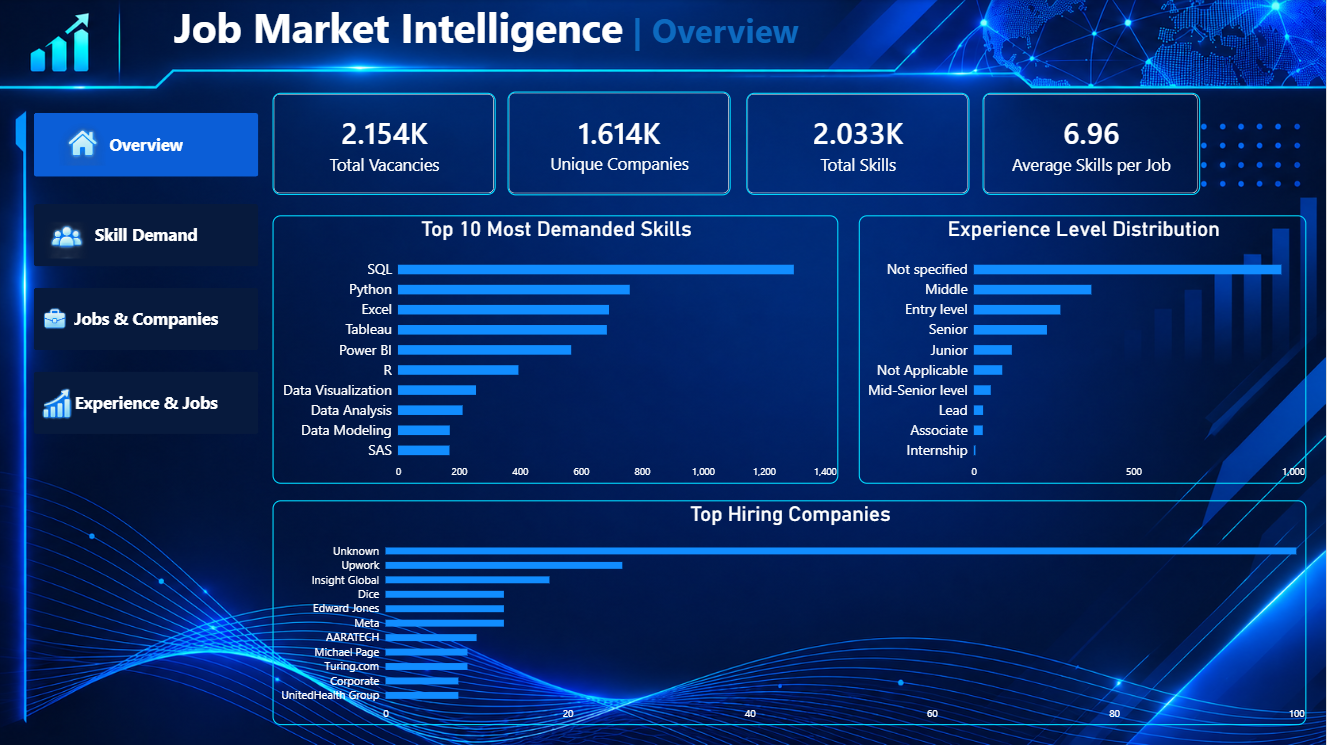

What the dashboard file says about the page in this screenshot:
{"tool":"powerbi","page":{"name":"Overview","canvas":[1920,1080],"ordinal":0},"visuals":[{"type":"textbox","box":[251.1,0,1099.1,105],"z":0},{"type":"cardVisual","fields":{"Data":["CountNonNull(vacancies_cleaned.id)"]},"box":[395.2,135.8,323.2,148.2],"z":1000},{"type":"cardVisual","fields":{"Data":["Count(vacancies_cleaned.company)"]},"box":[734.8,133.8,323.2,150.3],"z":2000},{"type":"cardVisual","fields":{"Data":["CountNonNull(skills_cleaned.id)"]},"box":[1080.6,135.8,323.2,148.2],"z":3000},{"type":"cardVisual","fields":{"Data":["Calculation.Average Skills per Job"]},"box":[1422.3,135.8,314.9,148.2],"z":4000},{"type":"clusteredBarChart","title":"Top 10 Most Demanded Skills","fields":{"Category":["skills_cleaned.name"],"Y":["CountNonNull(vacancy_skills_cleaned.vacancy_id)"]},"box":[395.2,312.9,819.2,389],"z":5000},{"type":"clusteredBarChart","title":"Experience Level Distribution","fields":{"Category":["vacancies_cleaned.experience_level"],"Y":["CountNonNull(vacancies_cleaned.id)"]},"box":[1243.2,312.9,648.4,389],"z":6000},{"type":"clusteredBarChart","title":"Top Hiring Companies","fields":{"Category":["vacancies_cleaned.company"],"Y":["CountNonNull(vacancies_cleaned.id)"]},"box":[394.5,725.7,1496.6,325.7],"z":7000},{"type":"actionButton","box":[49.4,164.7,325.2,92.6],"z":9000},{"type":"image","box":[63.8,168.8,113.2,84.4],"z":10000},{"type":"actionButton","box":[49.4,296.4,325.2,90.6],"z":11000},{"type":"image","box":[41.2,284,111.1,129.7],"z":12000},{"type":"actionButton","box":[49.4,417.8,325.2,90.6],"z":13000},{"type":"actionButton","box":[49.4,539.3,325.2,90.6],"z":14000},{"type":"image","box":[49.4,440.5,57.6,45.3],"z":15000},{"type":"image","box":[41.2,551.6,80.3,63.8],"z":15500}]}

Visuals, with their boxes in screenshot pixels (x1, y1, x2, y2), scaled from the page's 1920x1080 canvas onto the 1327x745 screenshot:
textbox: bbox=(174, 0, 933, 72)
cardVisual - CountNonNull(vacancies_cleaned.id): bbox=(273, 94, 497, 196)
cardVisual - Count(vacancies_cleaned.company): bbox=(508, 92, 731, 196)
cardVisual - CountNonNull(skills_cleaned.id): bbox=(747, 94, 970, 196)
cardVisual - Calculation.Average Skills per Job: bbox=(983, 94, 1201, 196)
"Top 10 Most Demanded Skills" clusteredBarChart: bbox=(273, 216, 839, 484)
"Experience Level Distribution" clusteredBarChart: bbox=(859, 216, 1307, 484)
"Top Hiring Companies" clusteredBarChart: bbox=(273, 501, 1307, 725)
actionButton: bbox=(34, 114, 259, 177)
image: bbox=(44, 116, 122, 175)
actionButton: bbox=(34, 204, 259, 267)
image: bbox=(28, 196, 105, 285)
actionButton: bbox=(34, 288, 259, 351)
actionButton: bbox=(34, 372, 259, 435)
image: bbox=(34, 304, 74, 335)
image: bbox=(28, 381, 84, 425)
